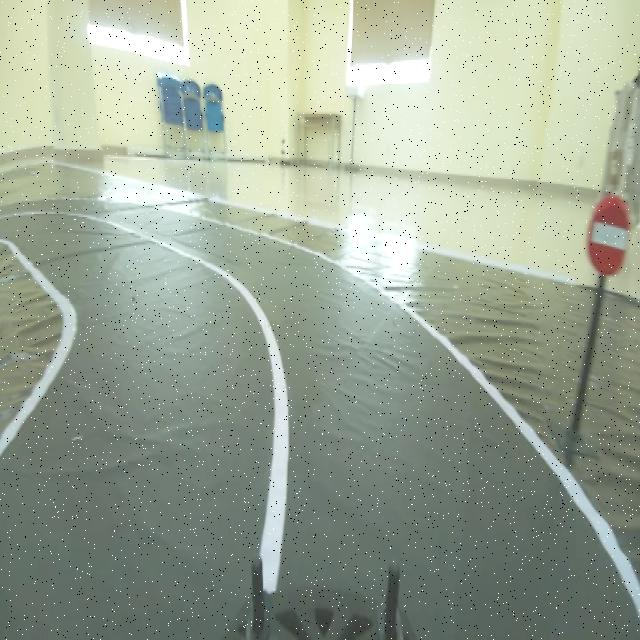no_entry: (577, 186, 631, 275)
